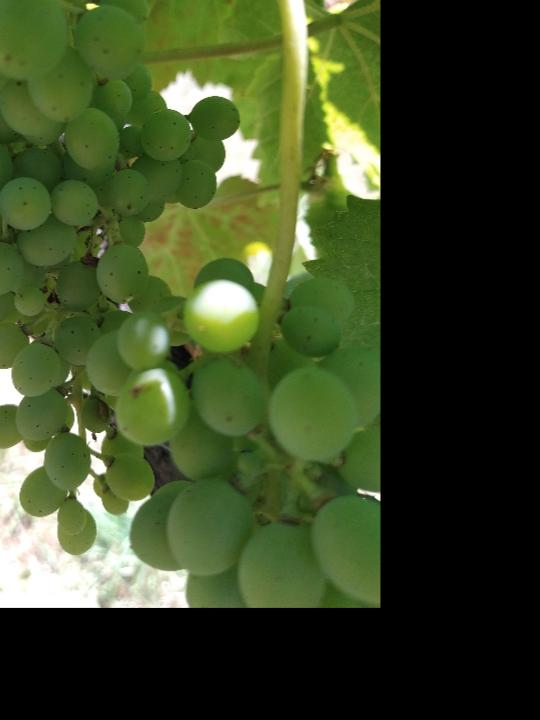grape: (0, 0, 244, 557)
